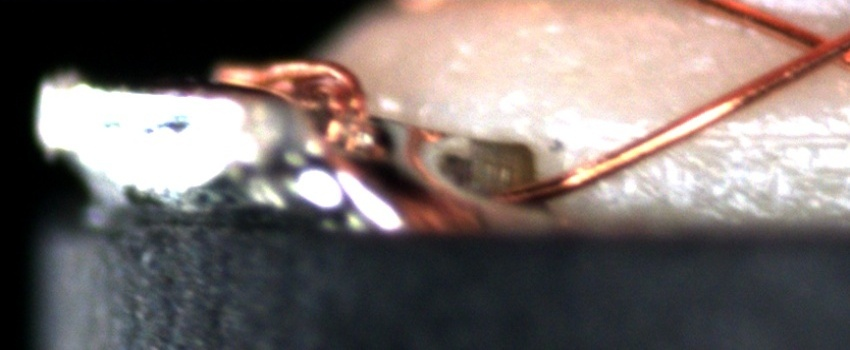CL: (779, 17, 848, 76)
DL: (702, 107, 849, 167)
TE: (200, 49, 378, 169)
